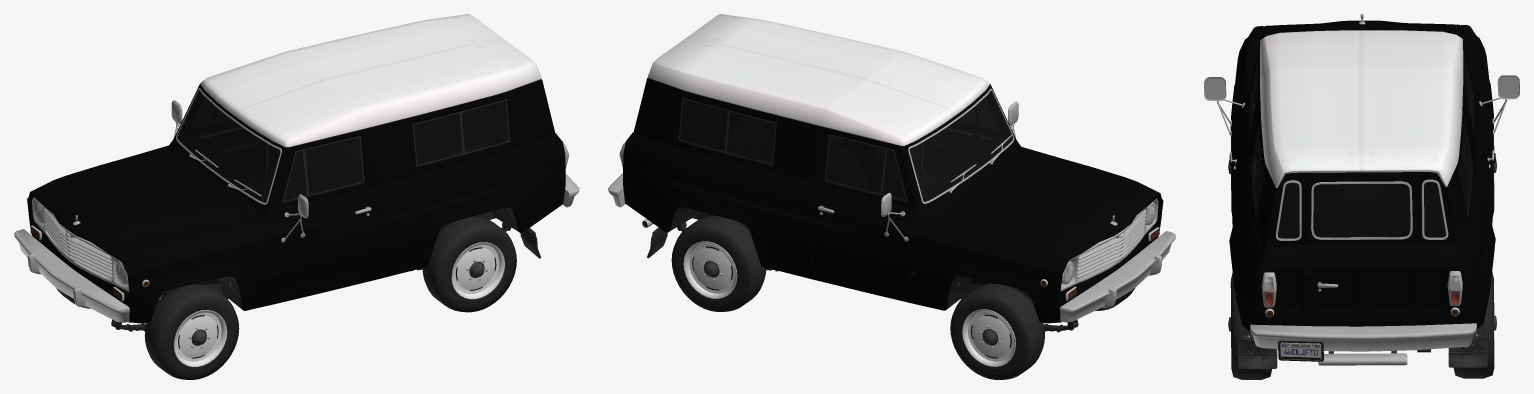
File: 60s_classic_american_suv_-_low_poly_model.glb
The picture shows the model from 3 angles, left to right: view 1: azimuth 30°, elevation 25°; view 2: azimuth 150°, elevation 25°; view 3: azimuth 270°, elevation 25°; orthographic projection. The views are drawn at different scales.
Parts seen in each view (by area): view 1: Body_Bodycolor_0, Roof_UCB_BOTTOM_0, Hood_Bodycolor_0, Door_Left_Bodycolor_0, Windshield_UCB_GLASS_CLEAN_0, Wheel_FL_wp_tire_offroad_0, Wheel_RL_wp_tire_offroad_0, Bodyglass_UCB_GLASS_CLEAN_0, Door_Glass_FL_UCB_GLASS_CLEAN_0, Bumper_Front_UCB_BOTTOM_0, Grill_UCB_BOTTOM_0, Bottom_UCB_BOTTOM_0 (+3 smaller); view 2: Body_Bodycolor_0, Roof_UCB_BOTTOM_0, Hood_Bodycolor_0, Door_Right_Bodycolor_0, Windshield_UCB_GLASS_CLEAN_0, Wheel_FR_wp_tire_offroad_0, Wheel_RR_wp_tire_offroad_0, Bodyglass_UCB_GLASS_CLEAN_0, Door_Glass_FR_UCB_GLASS_CLEAN_0, Bumper_Front_UCB_BOTTOM_0, Grill_UCB_BOTTOM_0, Bottom_UCB_BOTTOM_0 (+3 smaller); view 3: Roof_UCB_BOTTOM_0, Body_Bodycolor_0, rear_door_Bodycolor_0, Bumper_rear_UCB_BOTTOM_0, rear_door_glass_UCB_GLASS_CLEAN_0, Bottom_UCB_BOTTOM_0, Bodyglass_UCB_GLASS_CLEAN_0, Hood_Bodycolor_0, Door_Right_Bodycolor_0, Door_Left_Bodycolor_0, Wheel_RL_wp_tire_offroad_0, Wheel_RR_wp_tire_offroad_0 (+7 smaller).
Part boxes in pixels (<box>): Body_Bodycolor_0: <box>27,79,565,323</box>; Roof_UCB_BOTTOM_0: <box>200,14,541,147</box>; Hood_Bodycolor_0: <box>33,153,248,258</box>; Door_Left_Bodycolor_0: <box>272,128,379,293</box>; Windshield_UCB_GLASS_CLEAN_0: <box>176,90,280,202</box>; Wheel_FL_wp_tire_offroad_0: <box>144,284,239,379</box>; Wheel_RL_wp_tire_offroad_0: <box>422,216,516,312</box>; Bodyglass_UCB_GLASS_CLEAN_0: <box>414,100,509,165</box>; Door_Glass_FL_UCB_GLASS_CLEAN_0: <box>283,137,363,200</box>; Bumper_Front_UCB_BOTTOM_0: <box>14,229,129,322</box>; Grill_UCB_BOTTOM_0: <box>30,197,129,301</box>; Bottom_UCB_BOTTOM_0: <box>142,88,541,308</box>; Body_Bodycolor_0: <box>623,78,1163,323</box>; Roof_UCB_BOTTOM_0: <box>647,14,989,145</box>; Hood_Bodycolor_0: <box>941,154,1157,258</box>; Door_Right_Bodycolor_0: <box>809,126,916,293</box>; Windshield_UCB_GLASS_CLEAN_0: <box>909,90,1013,201</box>; Wheel_FR_wp_tire_offroad_0: <box>950,284,1044,379</box>; Wheel_RR_wp_tire_offroad_0: <box>671,216,766,311</box>; Bodyglass_UCB_GLASS_CLEAN_0: <box>680,99,775,163</box>; Door_Glass_FR_UCB_GLASS_CLEAN_0: <box>826,135,906,199</box>; Bumper_Front_UCB_BOTTOM_0: <box>1060,231,1175,322</box>; Grill_UCB_BOTTOM_0: <box>1060,198,1159,300</box>; Bottom_UCB_BOTTOM_0: <box>647,88,1047,308</box>; Roof_UCB_BOTTOM_0: <box>1260,30,1463,187</box>; Body_Bodycolor_0: <box>1229,24,1495,331</box>; rear_door_Bodycolor_0: <box>1304,177,1418,320</box>; Bumper_rear_UCB_BOTTOM_0: <box>1250,323,1476,361</box>; rear_door_glass_UCB_GLASS_CLEAN_0: <box>1313,184,1410,237</box>; Bottom_UCB_BOTTOM_0: <box>1237,120,1487,368</box>; Bodyglass_UCB_GLASS_CLEAN_0: <box>1251,121,1472,238</box>; Hood_Bodycolor_0: <box>1263,20,1461,37</box>; Door_Right_Bodycolor_0: <box>1463,40,1495,184</box>; Door_Left_Bodycolor_0: <box>1229,42,1260,185</box>; Wheel_RL_wp_tire_offroad_0: <box>1230,273,1271,379</box>; Wheel_RR_wp_tire_offroad_0: <box>1453,272,1494,378</box>.
Bounding box in the file's own units: 181 × 76.99 × 87.08.
10 materials, 7 textured.
